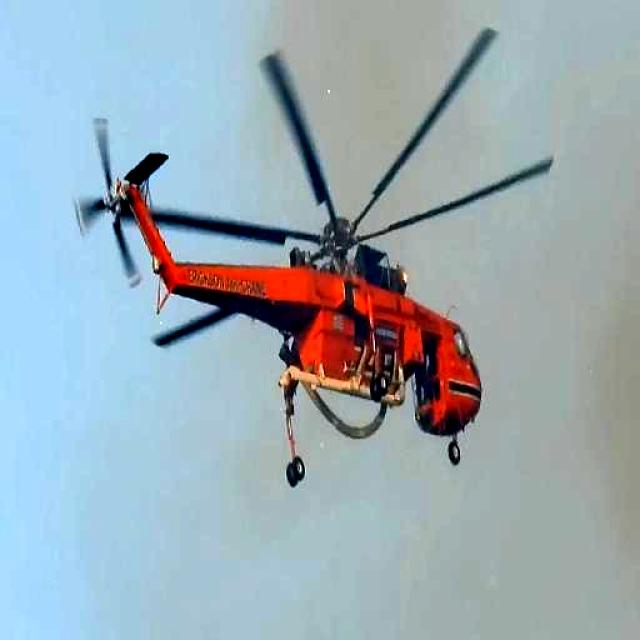drone: (69, 0, 585, 502)
